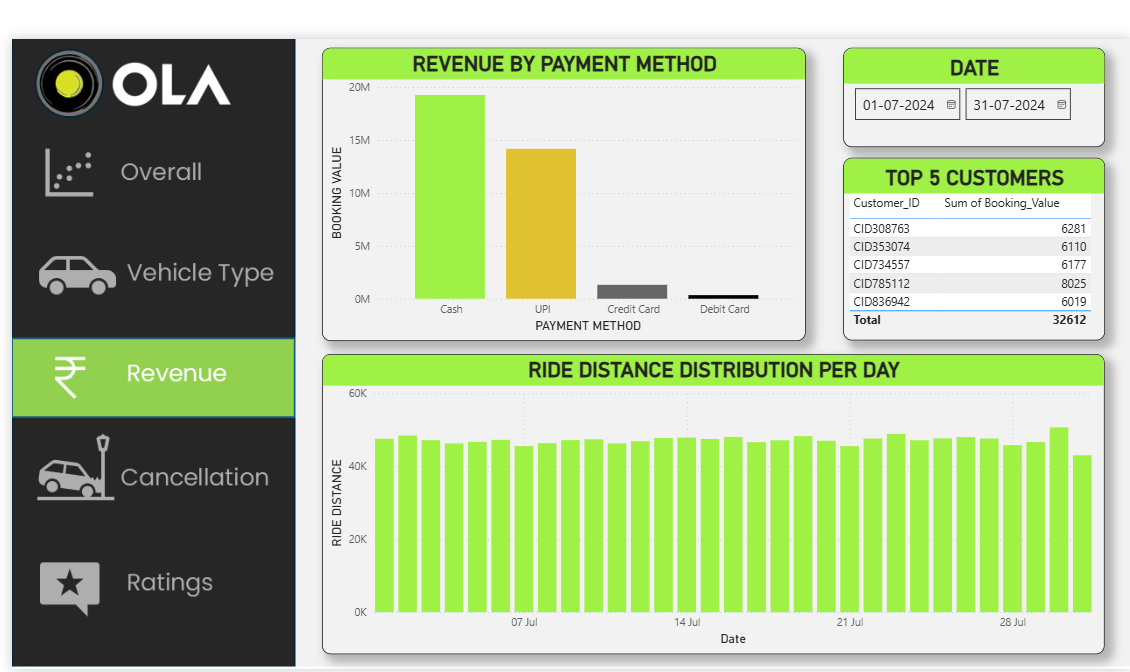

The dashboard page shown, as its layout file describes it:
{"tool":"powerbi","page":{"name":"REVENUE","canvas":[1280,720],"ordinal":2},"visuals":[{"type":"actionButton","box":[0,198.8,323.9,108],"z":0},{"type":"actionButton","box":[0,446,323.8,108.4],"z":1000},{"type":"actionButton","box":[0,569.5,323.8,108.4],"z":2000},{"type":"actionButton","box":[0,98.8,323.8,108.4],"z":3000},{"type":"columnChart","title":"REVENUE BY PAYMENT METHOD","fields":{"Y":["Sum(booking-july.Booking_Value)"],"Category":["booking-july.Payment_Method"]},"box":[354,9.6,553,334.8],"z":4000},{"type":"columnChart","title":"RIDE DISTANCE DISTRIBUTION PER DAY","fields":{"Y":["Sum(booking-july.Ride_Distance)"],"Category":["booking-july.Date"]},"box":[354,359.5,894.7,343.1],"z":5000},{"type":"slicer","title":"DATE","fields":{"Values":["booking-july.Date"]},"box":[949.6,9.6,299.1,113.9],"z":6000},{"type":"tableEx","title":"TOP 5 CUSTOMERS","fields":{"Values":["booking-july.Customer_ID","Sum(booking-july.Booking_Value)"]},"box":[949.6,135.8,299.1,208.6],"z":7000}]}

Visuals, with their boxes on the page's 1280x720 design canvas (x1, y1, x2, y2). These are canvas units, not pixel positions in the 1130x672 screenshot, which may show the page scaled, cropped or inside an application window:
actionButton: {"x1": 0, "y1": 199, "x2": 324, "y2": 307}
actionButton: {"x1": 0, "y1": 446, "x2": 324, "y2": 554}
actionButton: {"x1": 0, "y1": 570, "x2": 324, "y2": 678}
actionButton: {"x1": 0, "y1": 99, "x2": 324, "y2": 207}
"REVENUE BY PAYMENT METHOD" columnChart: {"x1": 354, "y1": 10, "x2": 907, "y2": 344}
"RIDE DISTANCE DISTRIBUTION PER DAY" columnChart: {"x1": 354, "y1": 360, "x2": 1249, "y2": 703}
"DATE" slicer: {"x1": 950, "y1": 10, "x2": 1249, "y2": 124}
"TOP 5 CUSTOMERS" tableEx: {"x1": 950, "y1": 136, "x2": 1249, "y2": 344}
